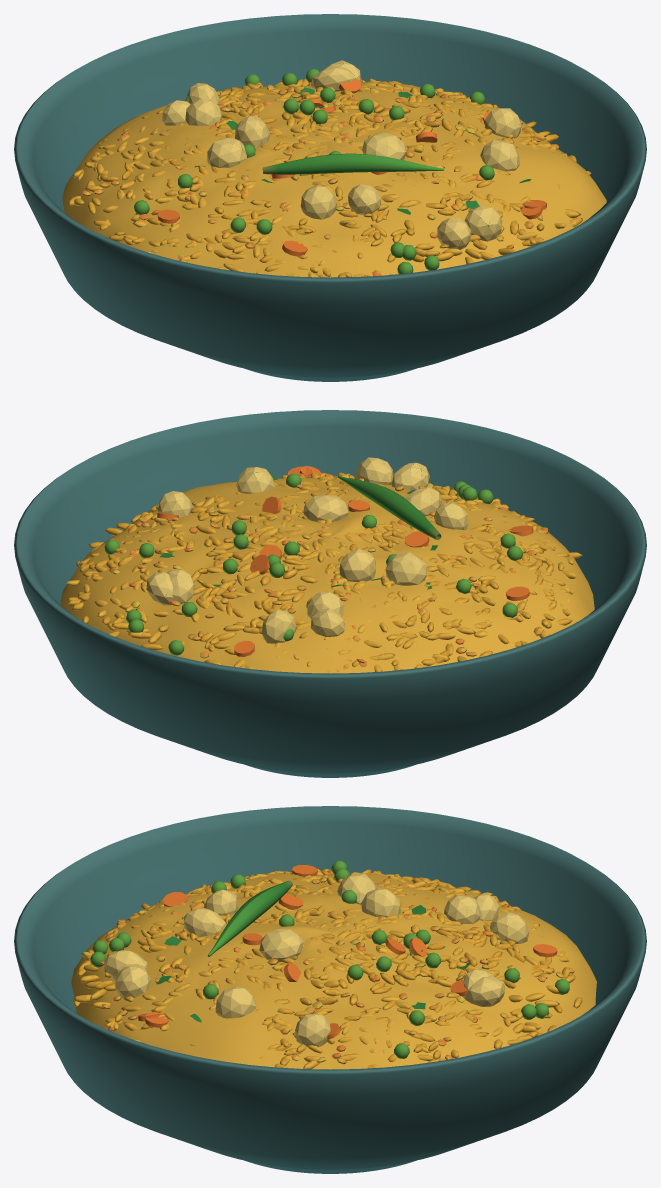
The model's file is vegetable-khichuri.glb.
3 renders of one model, top to bottom at view 1: azimuth 30°, elevation 25°; view 2: azimuth 150°, elevation 25°; view 3: azimuth 270°, elevation 25°, orthographic.
Parts seen in each view (by area): view 1: ceramic, rice, food, garnish; view 2: ceramic, rice, food, garnish; view 3: ceramic, rice, food, garnish.
Boxes of the visible parts, bbox=[...] form: ceramic: bbox=[14, 14, 646, 381]; rice: bbox=[62, 78, 606, 277]; food: bbox=[157, 60, 546, 256]; garnish: bbox=[134, 69, 531, 273]; ceramic: bbox=[14, 410, 646, 777]; rice: bbox=[60, 472, 594, 673]; food: bbox=[146, 457, 533, 656]; garnish: bbox=[104, 469, 522, 655]; ceramic: bbox=[14, 806, 646, 1173]; rice: bbox=[71, 868, 596, 1069]; food: bbox=[103, 865, 557, 1046]; garnish: bbox=[90, 860, 569, 1058].
Size of the model in its own units: 1.56 by 0.5597 by 1.56.
